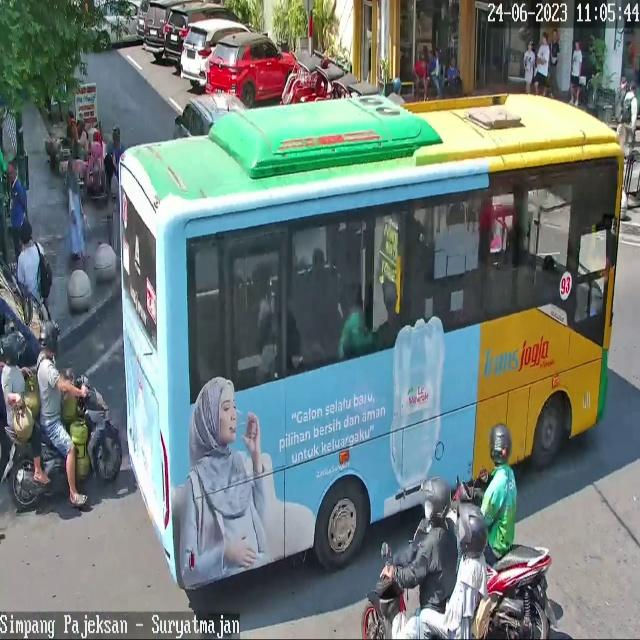bus: (446, 482, 560, 640), (0, 371, 122, 509), (361, 541, 421, 640)
car: (118, 93, 622, 591)
motorcycle: (206, 33, 300, 108), (163, 4, 246, 64), (181, 21, 252, 87), (175, 94, 248, 136), (143, 0, 169, 53)
